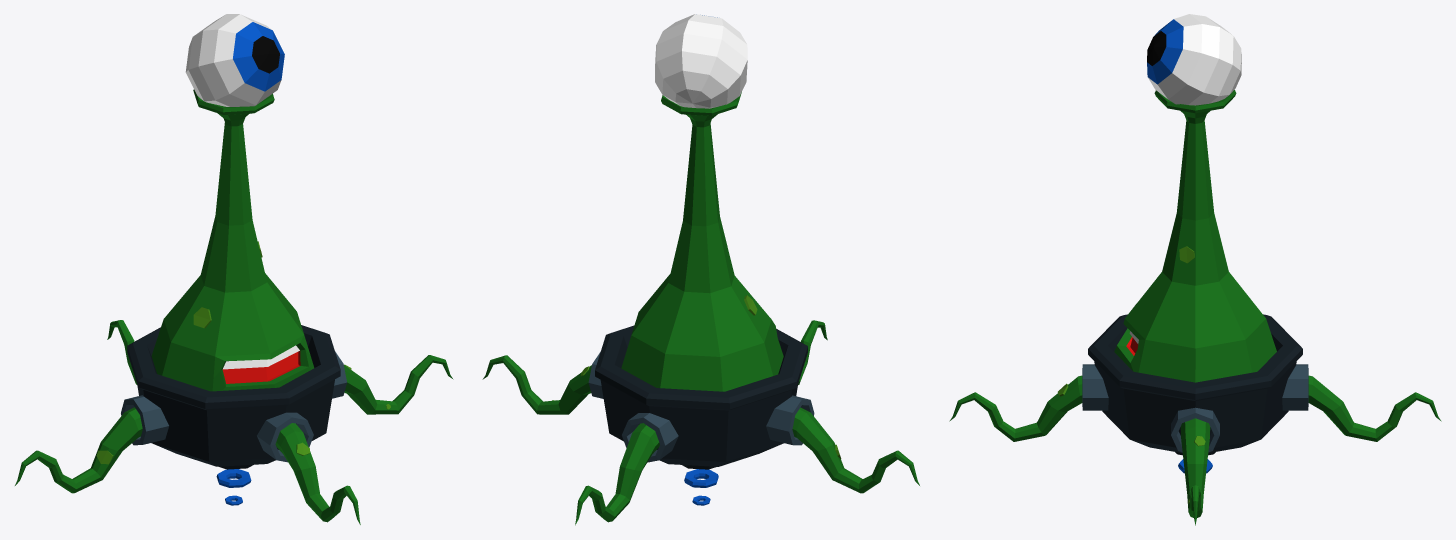
Rendered from Alien_01.obj.
The picture shows the model from 3 angles, left to right: view 1: azimuth 30°, elevation 25°; view 2: azimuth 150°, elevation 25°; view 3: azimuth 270°, elevation 25°; orthographic projection. The views are drawn at different scales.
Parts seen in each view (by area): view 1: Alian_Circle.002; view 2: Alian_Circle.002; view 3: Alian_Circle.002.
Boxes of the visible parts, left/top/right/bottom form: Alian_Circle.002: left=15, top=14, right=453, bottom=524; Alian_Circle.002: left=482, top=14, right=919, bottom=525; Alian_Circle.002: left=949, top=14, right=1441, bottom=525.
Bounding box in the file's own units: 11.36 × 11.95 × 11.36.
